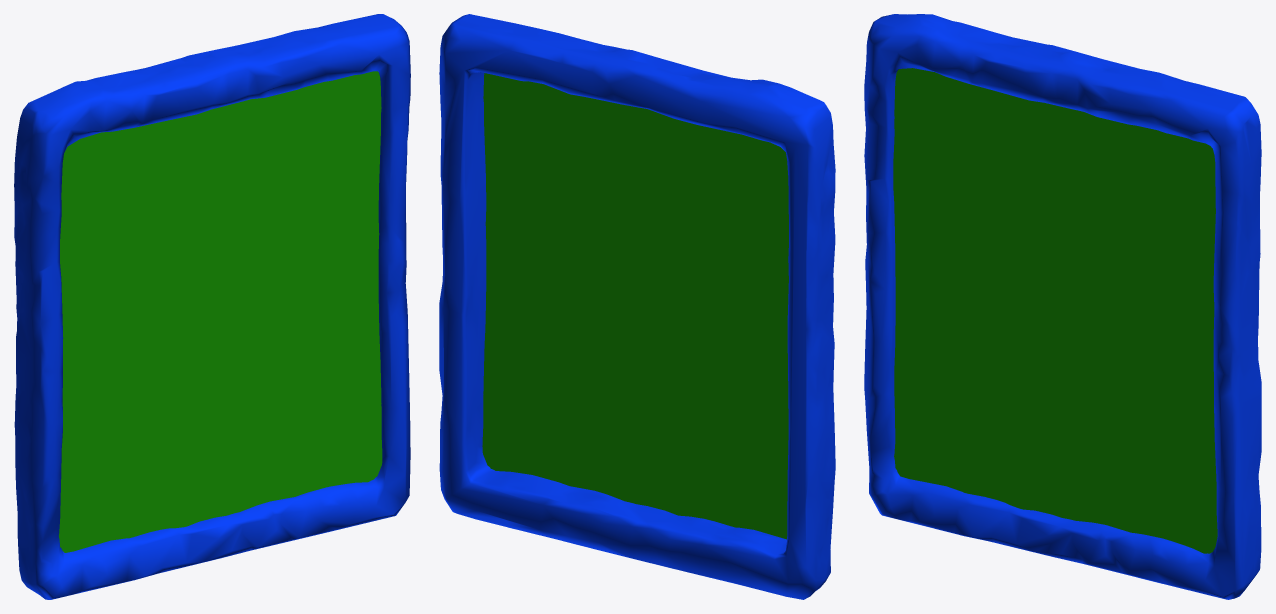
Rendered from Window.fbx.
3 views of the same model, side by side, from view 1: azimuth 30°, elevation 25°; view 2: azimuth 150°, elevation 25°; view 3: azimuth 330°, elevation 25° (orthographic).
Parts seen in each view (by area): view 1: SM_WindowFrame_Low; view 2: SM_WindowFrame_Low; view 3: SM_WindowFrame_Low.
Part boxes in pixels (x1,y1,x2,y2): SM_WindowFrame_Low: (14,14,410,599); SM_WindowFrame_Low: (439,14,835,599); SM_WindowFrame_Low: (864,14,1261,599).
Bounding box in the file's own units: 116 × 145 × 12.09.
